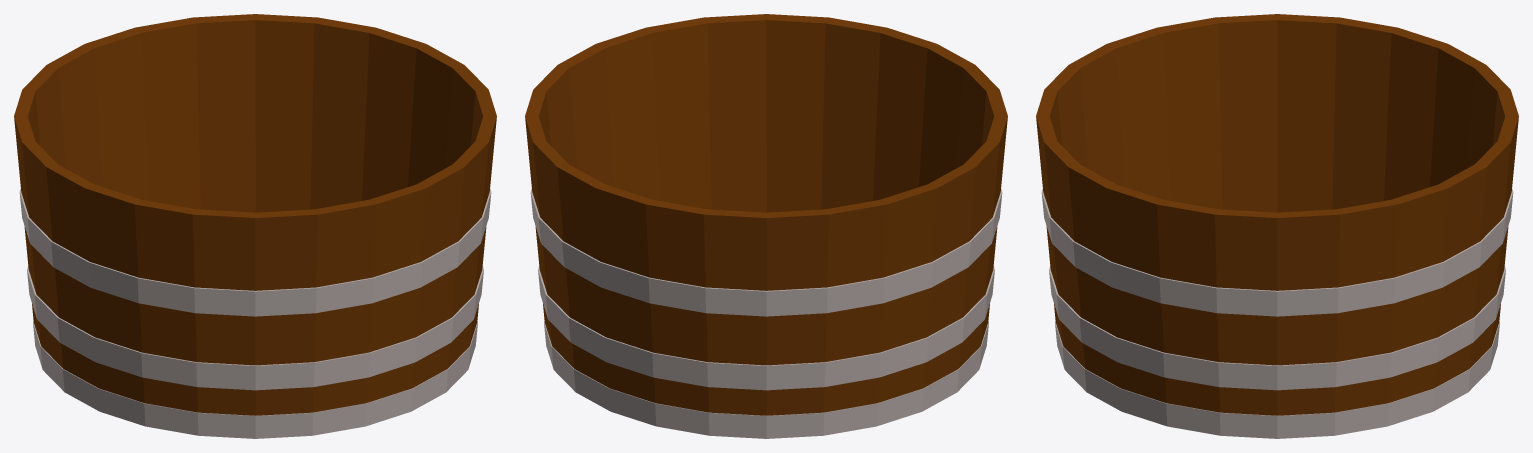
Rendered from Wood Wool bucket.fbx.
The picture shows the model from 3 angles, left to right: view 1: azimuth 30°, elevation 25°; view 2: azimuth 150°, elevation 25°; view 3: azimuth 270°, elevation 25°; orthographic projection.
Parts seen in each view (by area): view 1: Bucket; view 2: Bucket; view 3: Bucket.
Part boxes in pixels (bbox=[...]): Bucket: bbox=[14, 14, 496, 438]; Bucket: bbox=[525, 14, 1007, 438]; Bucket: bbox=[1036, 14, 1518, 438].
Bounding box in the file's own units: 284 × 149 × 284.
